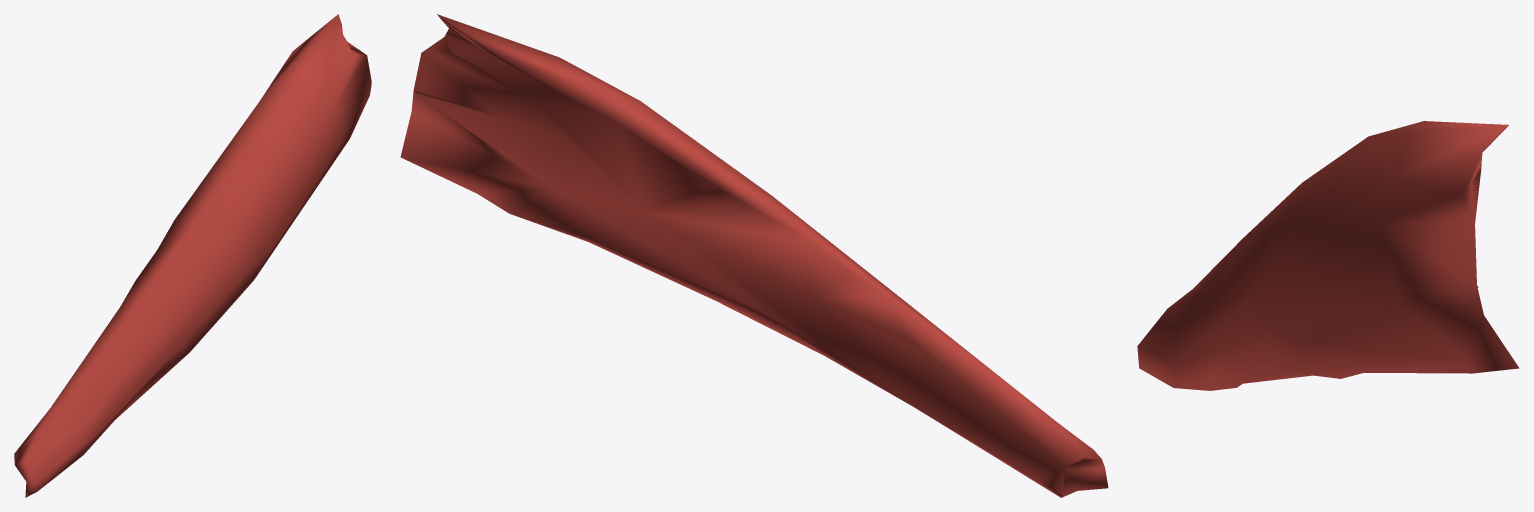
Rendered from musculos-superficial-head-of-flexor-pollicis-brevis-r.glb.
3 views of the same model, side by side, from view 1: azimuth 30°, elevation 25°; view 2: azimuth 150°, elevation 25°; view 3: azimuth 270°, elevation 25° (orthographic). The views are drawn at different scales.
Visible parts, largest first — view 1: Superficial head of flexor pollicis brevis.r; view 2: Superficial head of flexor pollicis brevis.r; view 3: Superficial head of flexor pollicis brevis.r.
Boxes of the visible parts, box(x1,y1,x2,y2) form: Superficial head of flexor pollicis brevis.r: box(14, 14, 371, 497); Superficial head of flexor pollicis brevis.r: box(400, 14, 1108, 497); Superficial head of flexor pollicis brevis.r: box(1137, 121, 1519, 390).
Size of the model in its own units: 0.0432 by 0.0304 by 0.0165.
